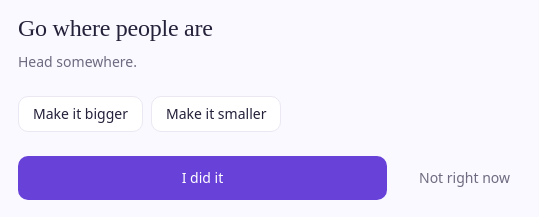
Test: TinyActionFlow › at the floor, the button relabels and still logs 'reduced'
This screenshot has width=539, height=217.
Click the button "Make it smaller": (216, 114) left=151, top=96, right=281, bottom=132
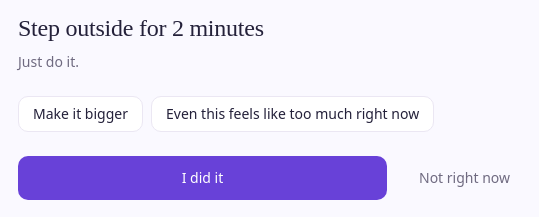
Now the heading "Step outside for 2 minutes" is shown, box left=18, top=15, right=264, bottom=41
Now the button "Make it smaller" is gone
Click the button "Even this feels like too much right now": (293, 114) left=151, top=96, right=434, bottom=132
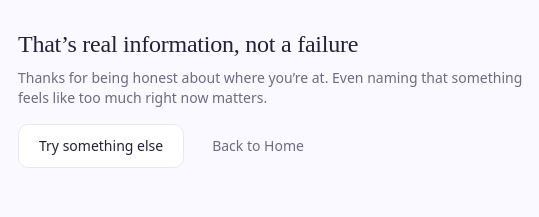
Now the heading "That’s real information, not a failure" is shown, box left=18, top=31, right=358, bottom=57
